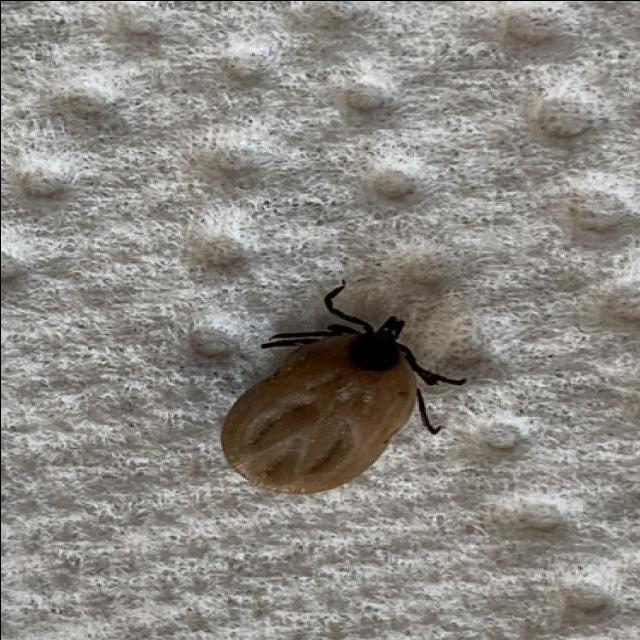Ixodes Ricinus-F-Fed: (218, 278, 466, 494)
